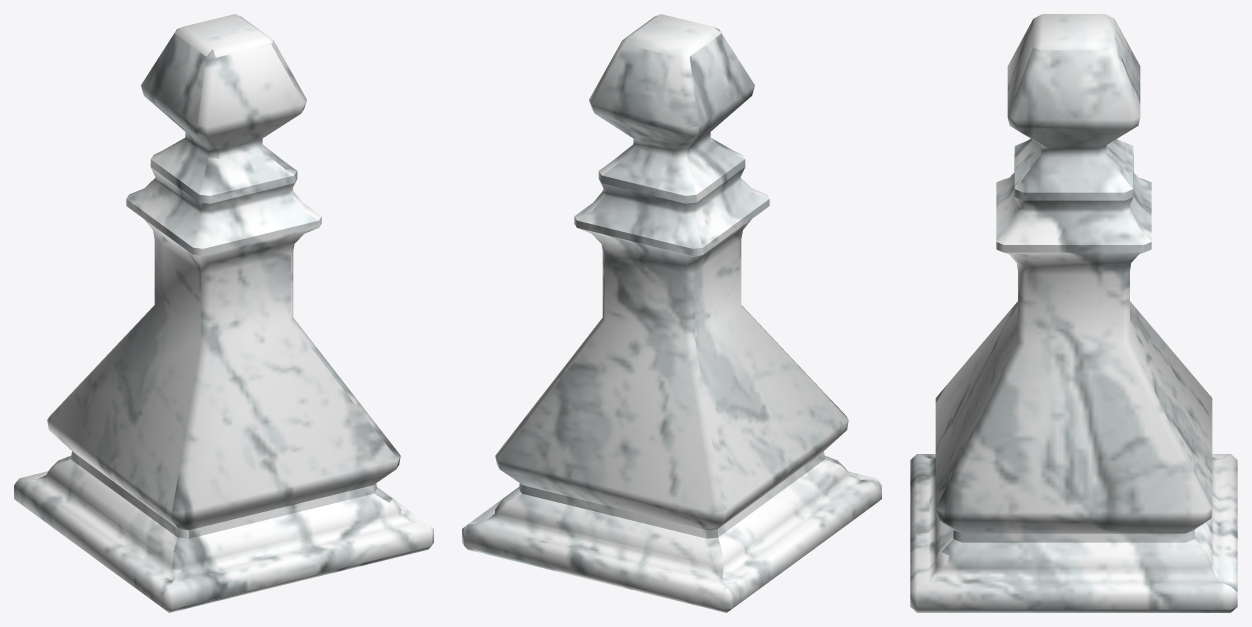
File: chess_pawn_01-white.glb
3 views of the same model, side by side, from view 1: azimuth 30°, elevation 25°; view 2: azimuth 150°, elevation 25°; view 3: azimuth 270°, elevation 25° (orthographic). The views are drawn at different scales.
Visible parts, largest first — view 1: pawn_01; view 2: pawn_01; view 3: pawn_01.
Boxes of the visible parts, bbox=[...] form: pawn_01: bbox=[14, 14, 433, 612]; pawn_01: bbox=[462, 14, 881, 612]; pawn_01: bbox=[910, 14, 1237, 612].
Size of the model in its own units: 0.5712 by 1 by 0.5712.
1 material, 1 textured.
